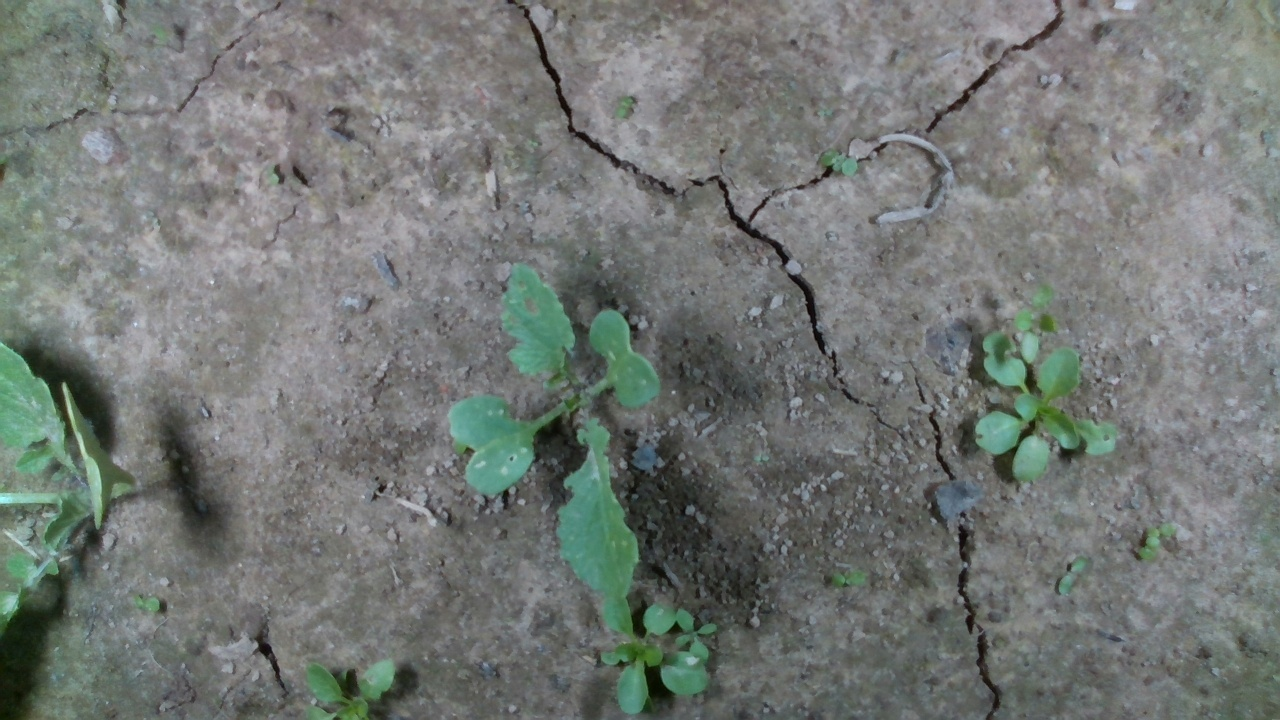weed: (1057, 553, 1088, 598), (818, 146, 859, 180), (829, 566, 869, 590), (128, 593, 162, 617)
